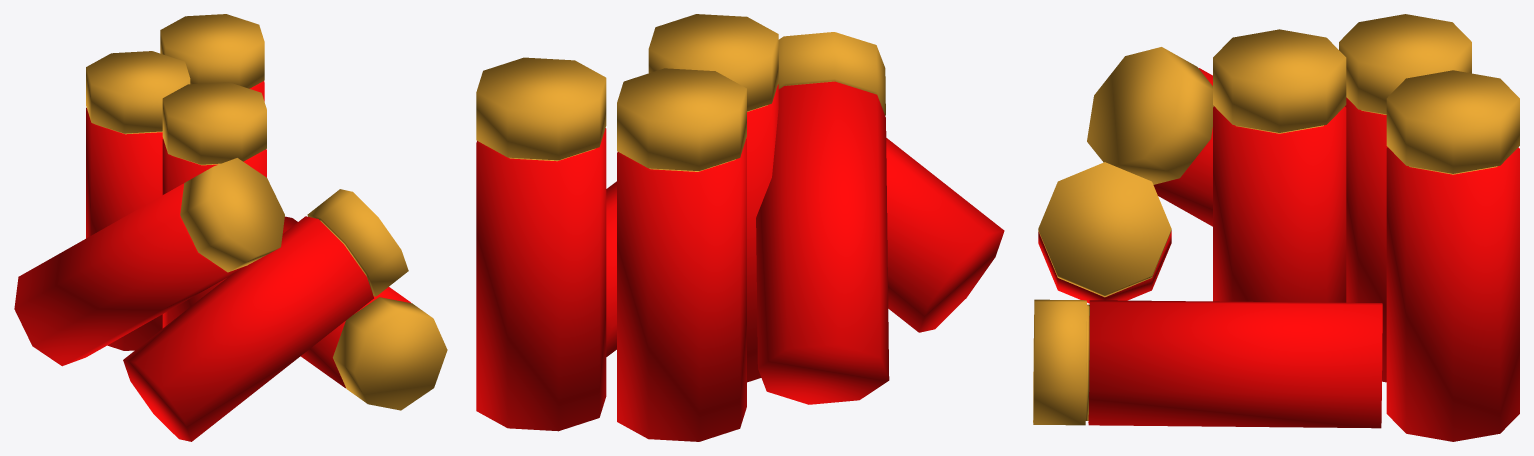
The model's file is ShotgunAmmo.fbx.
3 views of the same model, side by side, from view 1: azimuth 30°, elevation 25°; view 2: azimuth 150°, elevation 25°; view 3: azimuth 270°, elevation 25° (orthographic). The views are drawn at different scales.
Visible parts, largest first — view 1: ShotgunShells.001, ShotgunShells.004, ShotgunShells.006, ShotgunShells.003, ShotgunShells.002, ShotgunShells.005; view 2: ShotgunShells.005, ShotgunShells.006, ShotgunShells.004, ShotgunShells.001, ShotgunShells.002, ShotgunShells.003; view 3: ShotgunShells.005, ShotgunShells.003, ShotgunShells.002, ShotgunShells.006, ShotgunShells.004, ShotgunShells.001.
Part boxes in pixels (x1,y1,x2,y2): ShotgunShells.001: (123, 189, 408, 441); ShotgunShells.004: (14, 158, 284, 366); ShotgunShells.006: (86, 51, 190, 350); ShotgunShells.003: (282, 216, 447, 410); ShotgunShells.002: (162, 82, 266, 328); ShotgunShells.005: (160, 14, 264, 101); ShotgunShells.005: (476, 57, 606, 431); ShotgunShells.006: (617, 68, 746, 441); ShotgunShells.004: (756, 32, 889, 404); ShotgunShells.001: (886, 138, 1004, 332); ShotgunShells.002: (648, 14, 778, 382); ShotgunShells.003: (606, 181, 616, 356); ShotgunShells.005: (1386, 70, 1519, 441); ShotgunShells.003: (1033, 299, 1382, 428); ShotgunShells.002: (1213, 29, 1346, 302); ShotgunShells.006: (1339, 14, 1471, 382); ShotgunShells.004: (1087, 47, 1213, 226); ShotgunShells.001: (1038, 162, 1171, 303).
Bounding box in the file's own units: 641 × 525 × 731.
